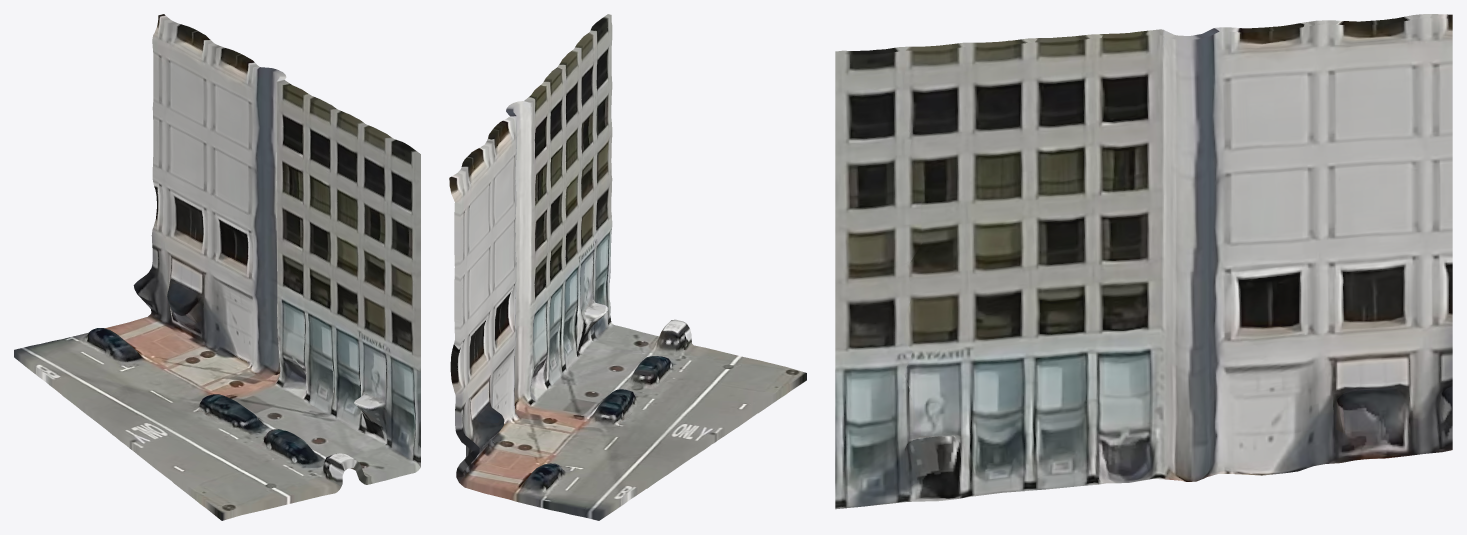
Rendered from z20-167749-405246-h0-yup-uvflip-v3-world.glb.
The picture shows the model from 3 angles, left to right: view 1: azimuth 30°, elevation 25°; view 2: azimuth 150°, elevation 25°; view 3: azimuth 270°, elevation 25°; orthographic projection. The views are drawn at different scales.
Bounding box in the file's own units: 16.76 × 25.6 × 30.32.
Materials: 1 (1 with a texture image).
